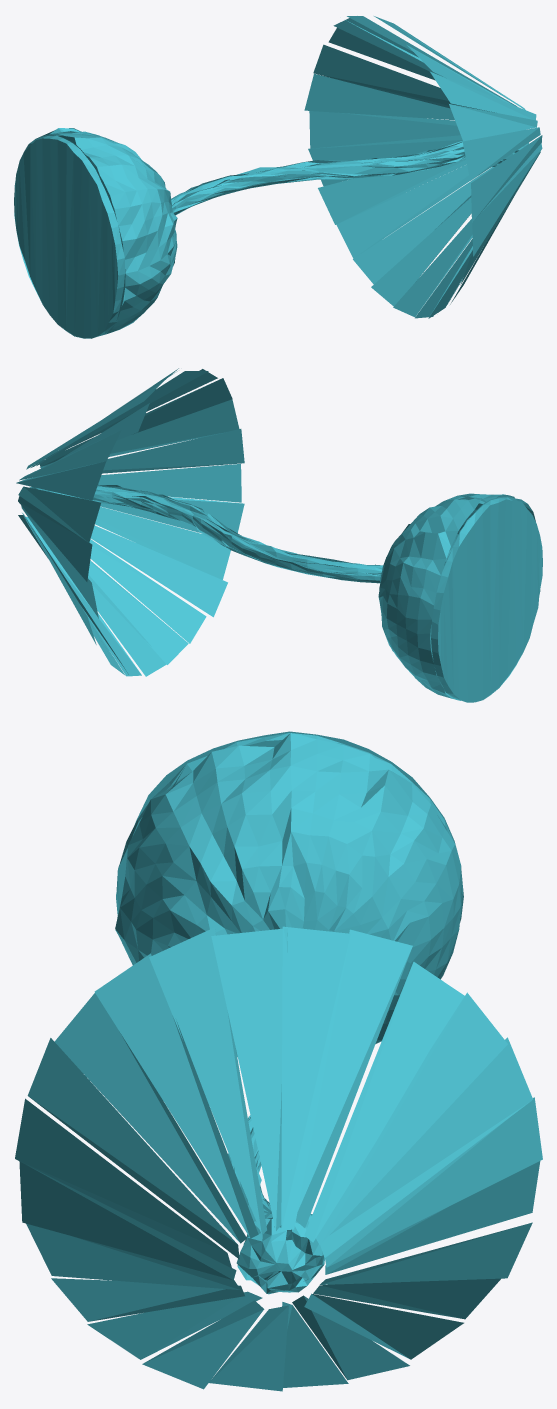
The picture shows the model from 3 angles, top to bottom: view 1: azimuth 30°, elevation 25°; view 2: azimuth 150°, elevation 25°; view 3: azimuth 270°, elevation 25°; orthographic projection. The views are drawn at different scales.
Visible parts, largest first — view 1: Renderer Node; view 2: Renderer Node; view 3: Renderer Node.
Boxes of the visible parts, x1=… form: Renderer Node: x1=14, y1=16, x2=542, y2=338; Renderer Node: x1=16, y1=368, x2=542, y2=702; Renderer Node: x1=15, y1=731, x2=542, y2=1391.
Size of the model in its own units: 0.7801 by 0.4576 by 0.4634.
Materials: 1 (1 with a texture image).
